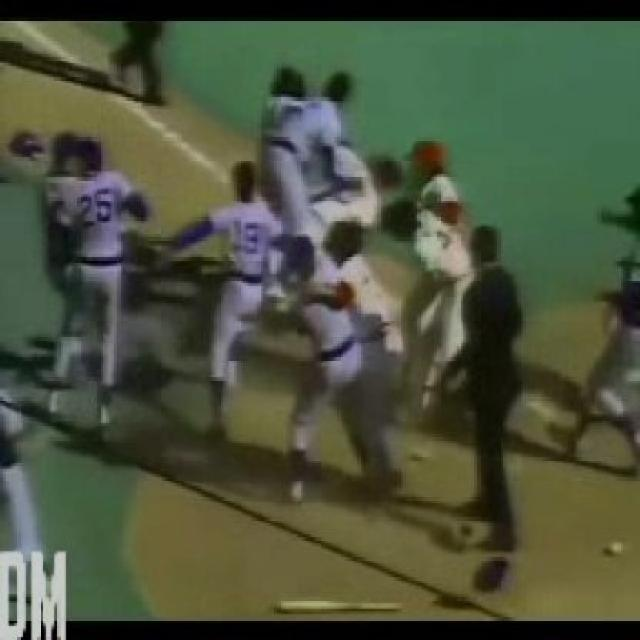fight: (252, 54, 400, 261)
